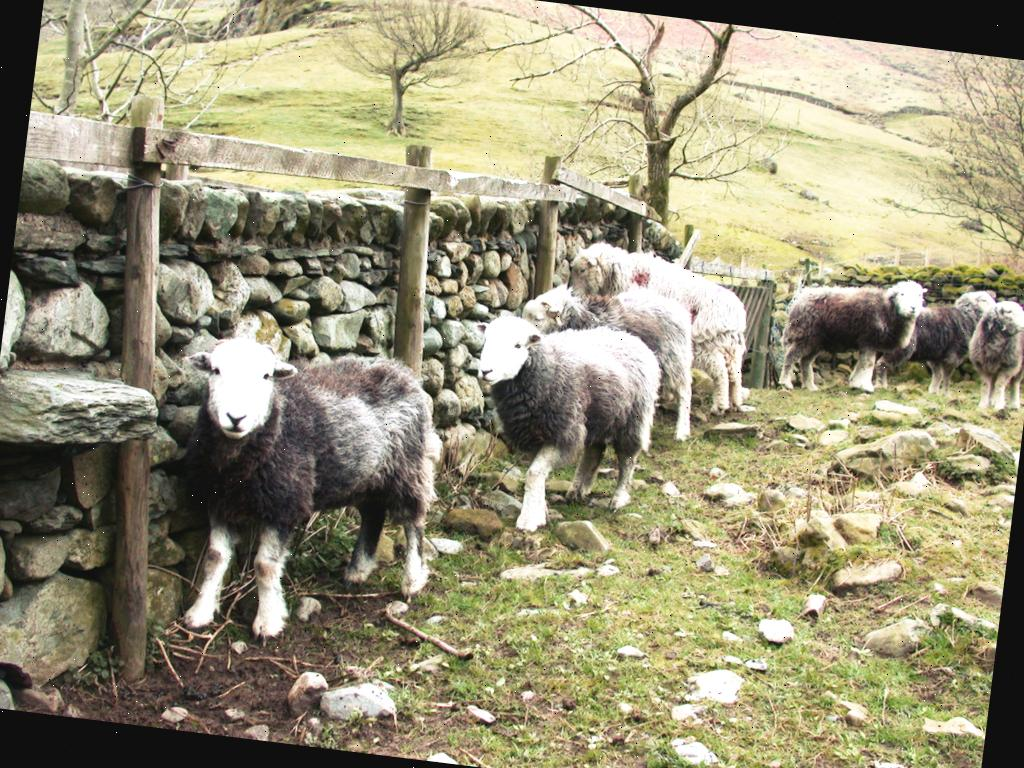Sheep: (133, 323, 451, 675), (465, 270, 690, 534), (556, 236, 752, 422), (772, 260, 934, 403), (875, 276, 997, 404), (960, 293, 1024, 413)
